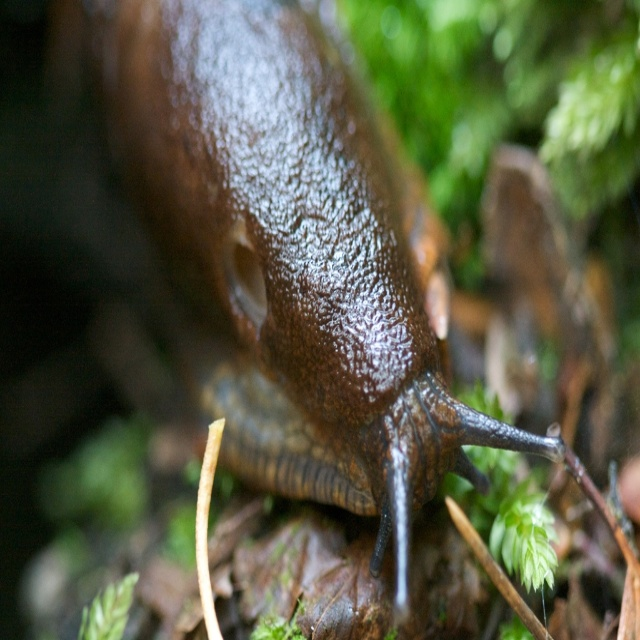Snail: (0, 0, 570, 628)
